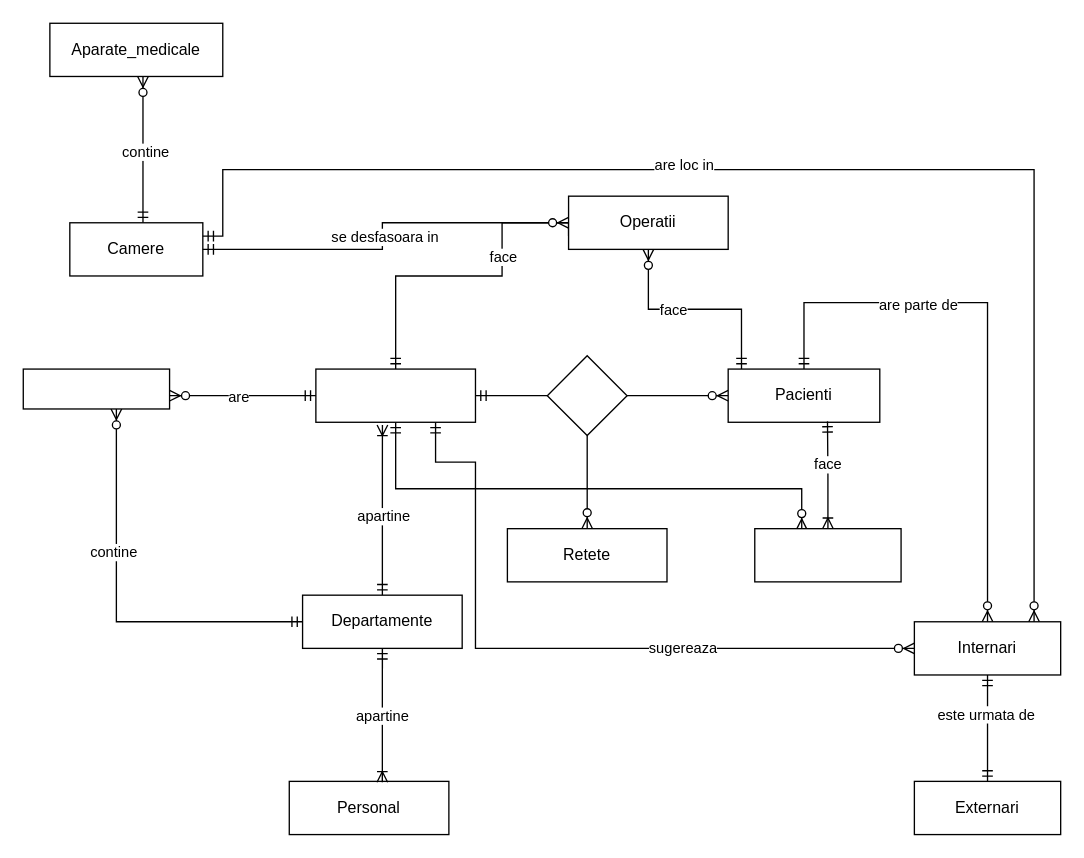
The diagram is 1084 pixels wide and 858 high, and some of its shapes have lost their labels. Each missing label, with the centre of its shape:
"consultatii" goes at (x=586, y=395).
"Doctori" goes at (x=395, y=395).
"Istoric_doctori" goes at (x=96, y=388).
"Programari" goes at (x=827, y=554).
